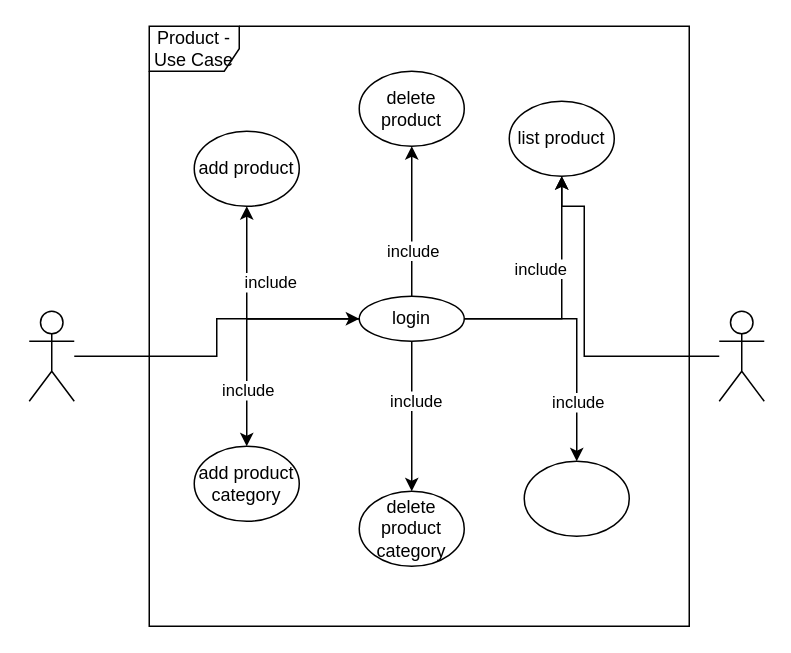
The diagram is 791 pixels wide and 653 high, and some of its shapes have lost their labels. Here are the shapes that lost their labels. From the top down, the centre of each, then its label:
At pixel 51 355: "Admin".
At pixel 741 355: "Gues".
At pixel 576 498: "list product category".
